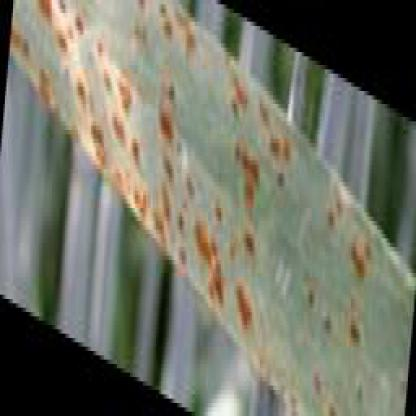Wheat Brown-rust: (319, 231, 374, 415), (20, 0, 95, 82), (140, 197, 304, 232), (115, 161, 264, 193), (87, 120, 221, 155), (48, 88, 213, 112), (126, 12, 192, 72), (178, 241, 291, 273), (258, 102, 298, 152), (208, 282, 271, 312), (312, 174, 343, 224), (306, 264, 318, 393), (223, 70, 249, 129), (277, 160, 292, 191)
